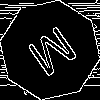M: (25, 25, 86, 86)
